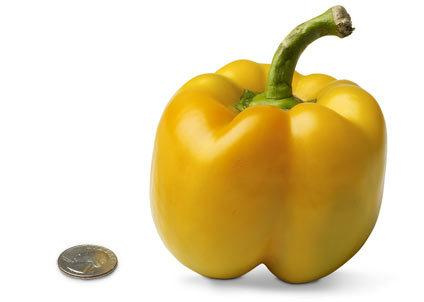capsicum: (147, 4, 389, 285)
